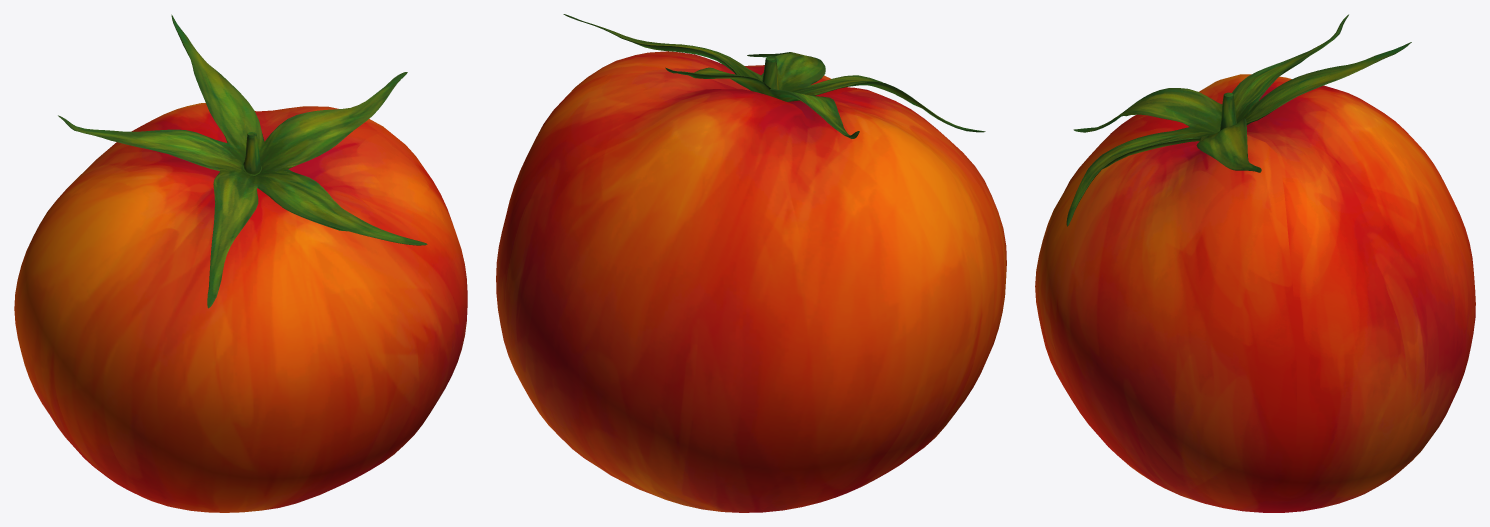
File: Tomato.fbx
The picture shows the model from 3 angles, left to right: view 1: azimuth 30°, elevation 25°; view 2: azimuth 150°, elevation 25°; view 3: azimuth 270°, elevation 25°; orthographic projection. The views are drawn at different scales.
Visible parts, largest first — view 1: node_id30; view 2: node_id30; view 3: node_id30.
Part boxes in pixels (<box>): node_id30: <box>14,14,467,512</box>; node_id30: <box>496,14,1006,512</box>; node_id30: <box>1035,14,1475,512</box>.
Size of the model in its own units: 0.5072 by 0.512 by 0.4653.
1 material, 1 textured.
